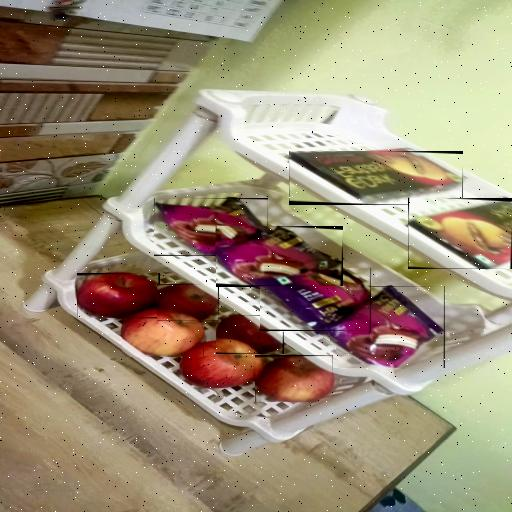Apple: (122, 309, 204, 357), (77, 273, 160, 318), (255, 355, 333, 402), (216, 315, 284, 354), (157, 284, 219, 321)
Choco Fills: (289, 151, 463, 205), (408, 198, 512, 269)
Choco Pie: (330, 286, 445, 368), (216, 226, 342, 286), (260, 268, 371, 331), (154, 198, 268, 256)
